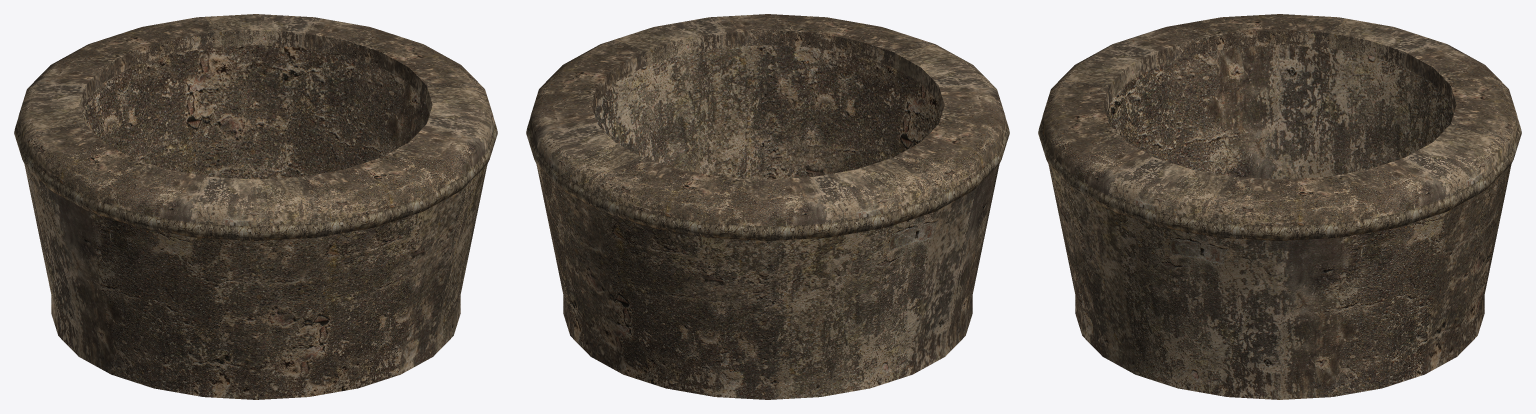
Rendered from materials_5_pot_10.fbx.
3 renders of one model, left to right at view 1: azimuth 30°, elevation 25°; view 2: azimuth 150°, elevation 25°; view 3: azimuth 270°, elevation 25°, orthographic.
Parts seen in each view (by area): view 1: materials_5_pot_10; view 2: materials_5_pot_10; view 3: materials_5_pot_10.
Part boxes in pixels (box(x1,y1,x2,y2)): materials_5_pot_10: box(14, 14, 497, 399); materials_5_pot_10: box(526, 14, 1009, 399); materials_5_pot_10: box(1038, 14, 1521, 399).
Size of the model in its own units: 37.93 by 18.04 by 37.93.
